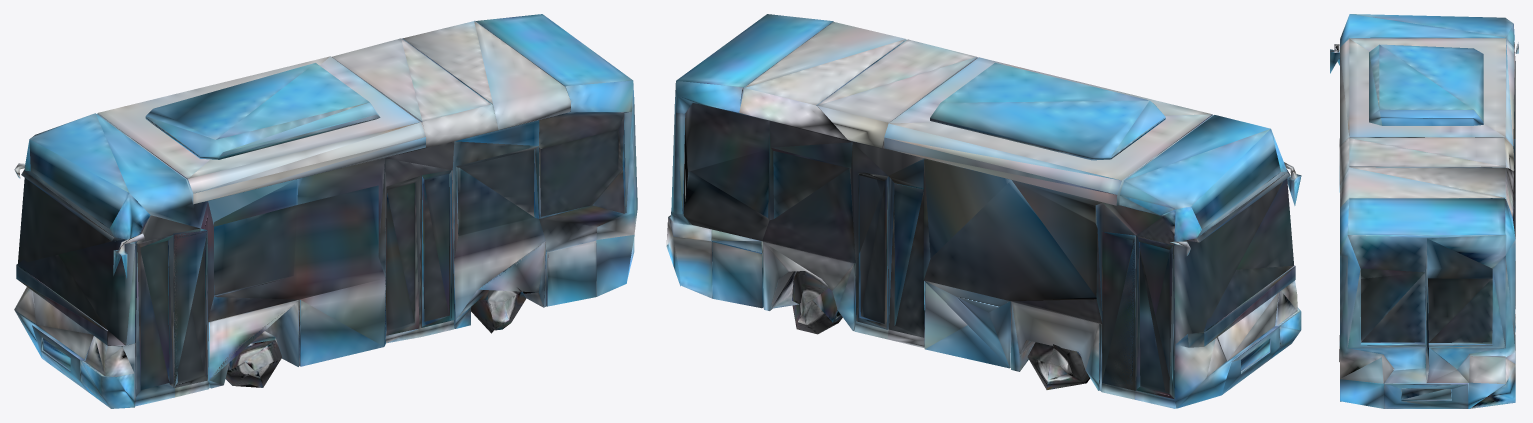
The model's file is 46-city-bus.glb.
3 renders of one model, left to right at view 1: azimuth 30°, elevation 25°; view 2: azimuth 150°, elevation 25°; view 3: azimuth 270°, elevation 25°, orthographic. The views are drawn at different scales.
Visible parts, largest first — view 1: geometry_0; view 2: geometry_0; view 3: geometry_0.
Boxes of the visible parts, <box> form: geometry_0: <box>14,14,637,408</box>; geometry_0: <box>666,14,1301,408</box>; geometry_0: <box>1330,14,1518,408</box>.
Bounding box in the file's own units: 0.9575 × 0.4082 × 0.3311.
Materials: 1 (1 with a texture image).
